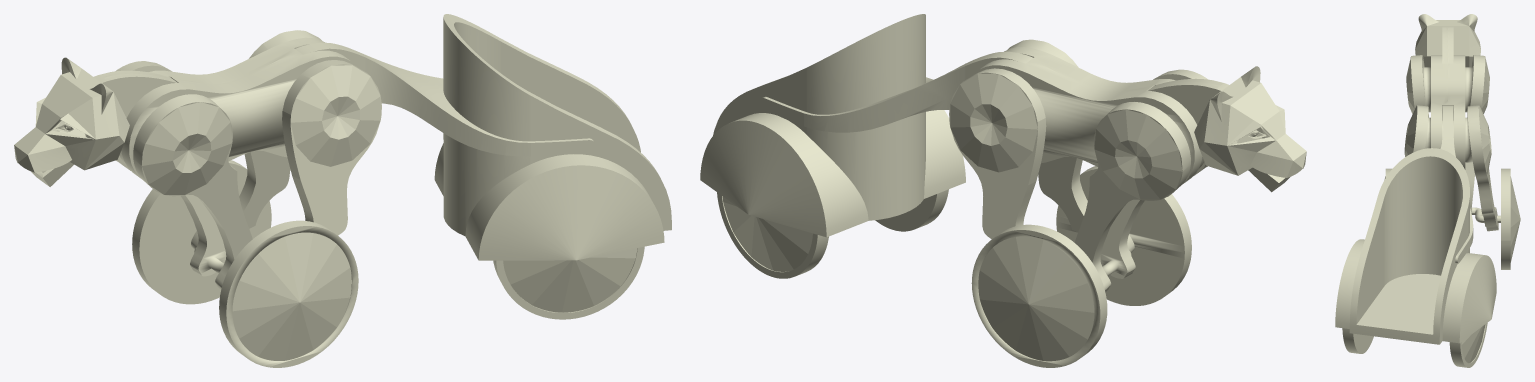
Rendered from _STRIJDWAGEN.dae.
The picture shows the model from 3 angles, left to right: view 1: azimuth 30°, elevation 25°; view 2: azimuth 150°, elevation 25°; view 3: azimuth 270°, elevation 25°; orthographic projection. The views are drawn at different scales.
Parts seen in each view (by area): view 1: SketchUp (×55); view 2: SketchUp (×55); view 3: SketchUp (×34).
Boxes of the visible parts, <box> form: SketchUp (×55): <box>28,14,671,367</box>; SketchUp (×55): <box>700,14,1293,367</box>; SketchUp (×34): <box>1335,14,1510,367</box>.
Bounding box in the file's own units: 14.14 × 5.55 × 6.57.
